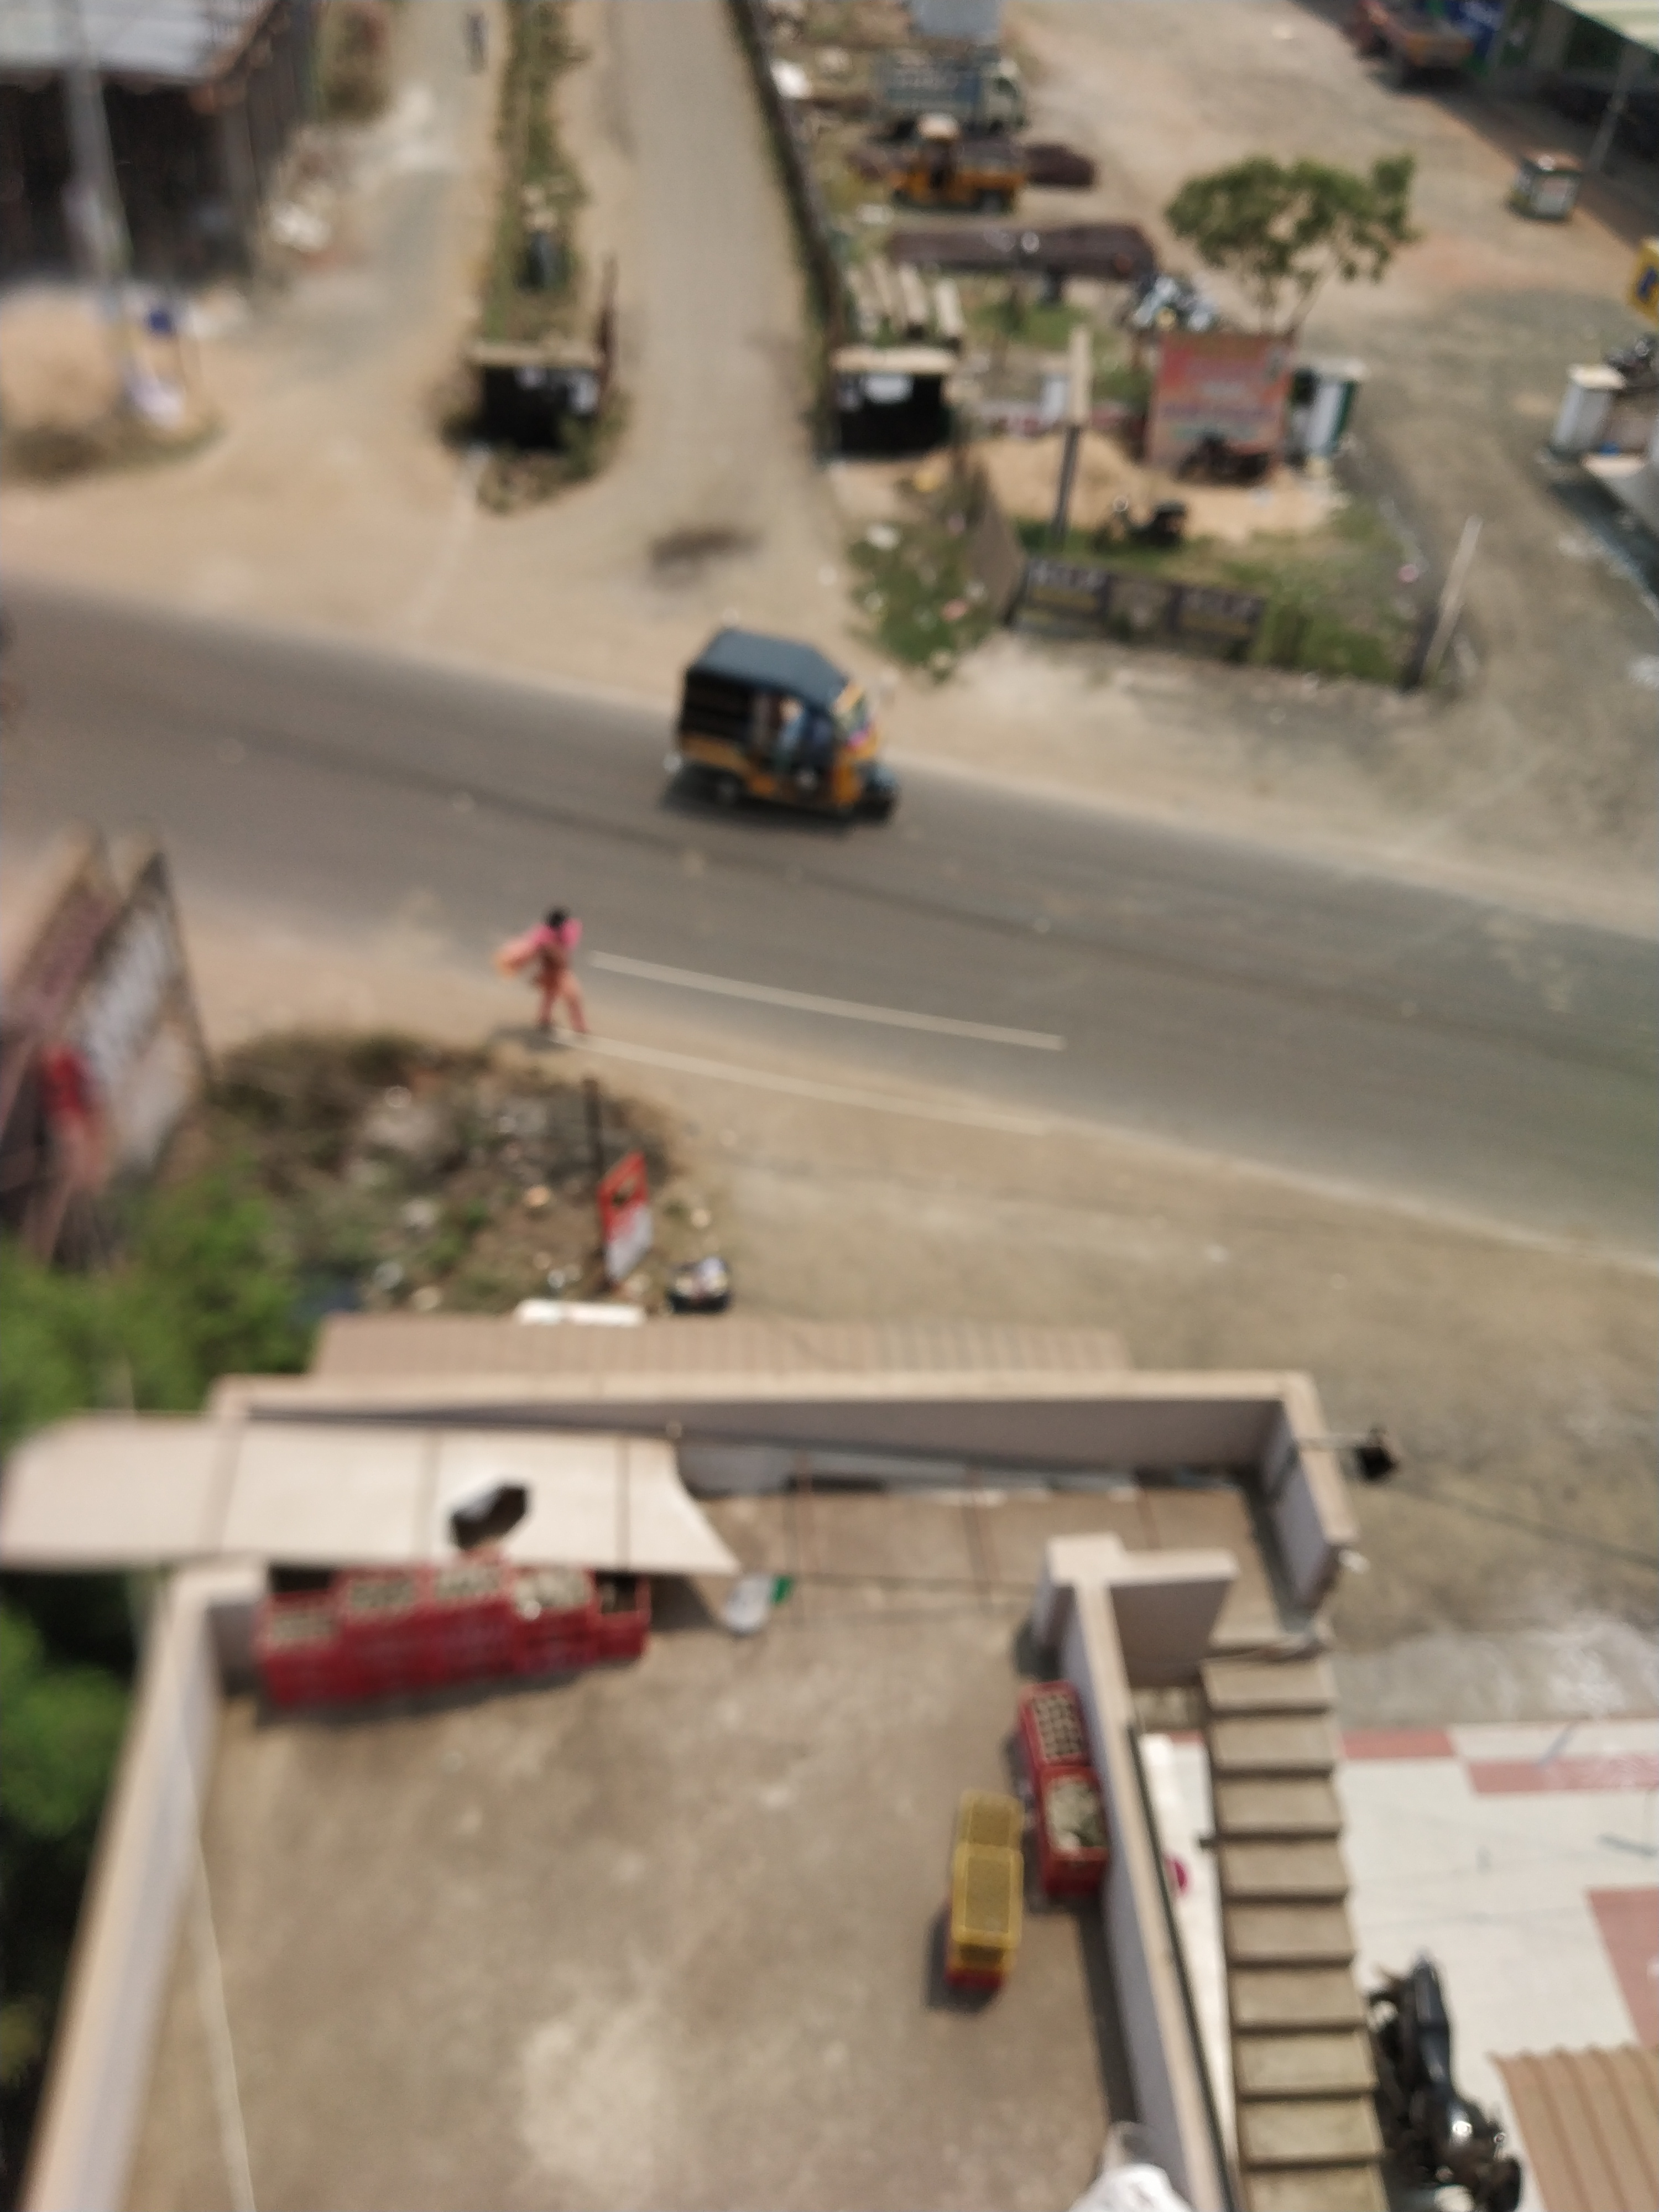auto: (664, 618, 894, 827)
two_wheelers: (1361, 1949, 1523, 2212)
